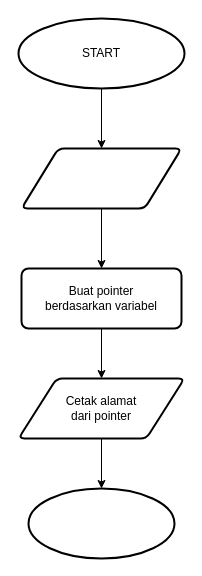
Some shapes in this 202 by 576 pixel diagram are drawn without their labels. The centre of each missing label's shape, as x and y in pixels:
"END" belongs at pixel 101 523.
"Masukkan nilai untuk variabel" belongs at pixel 101 178.
